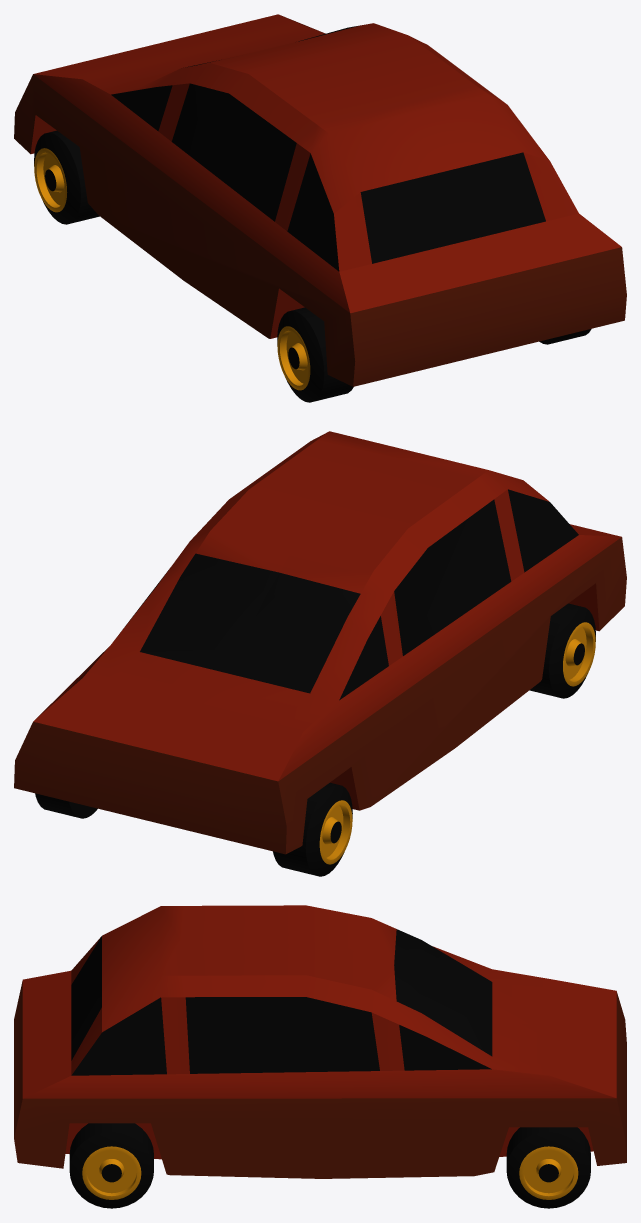
File: car_red.fbx
3 renders of one model, top to bottom at view 1: azimuth 30°, elevation 25°; view 2: azimuth 150°, elevation 25°; view 3: azimuth 270°, elevation 25°, orthographic. The views are drawn at different scales.
Visible parts, largest first — view 1: Cube; view 2: Cube; view 3: Cube.
Boxes of the visible parts, <box> form: Cube: <box>14,14,626,402</box>; Cube: <box>14,431,626,876</box>; Cube: <box>14,905,626,1208</box>.
Size of the model in its own units: 420 by 327 by 870.
